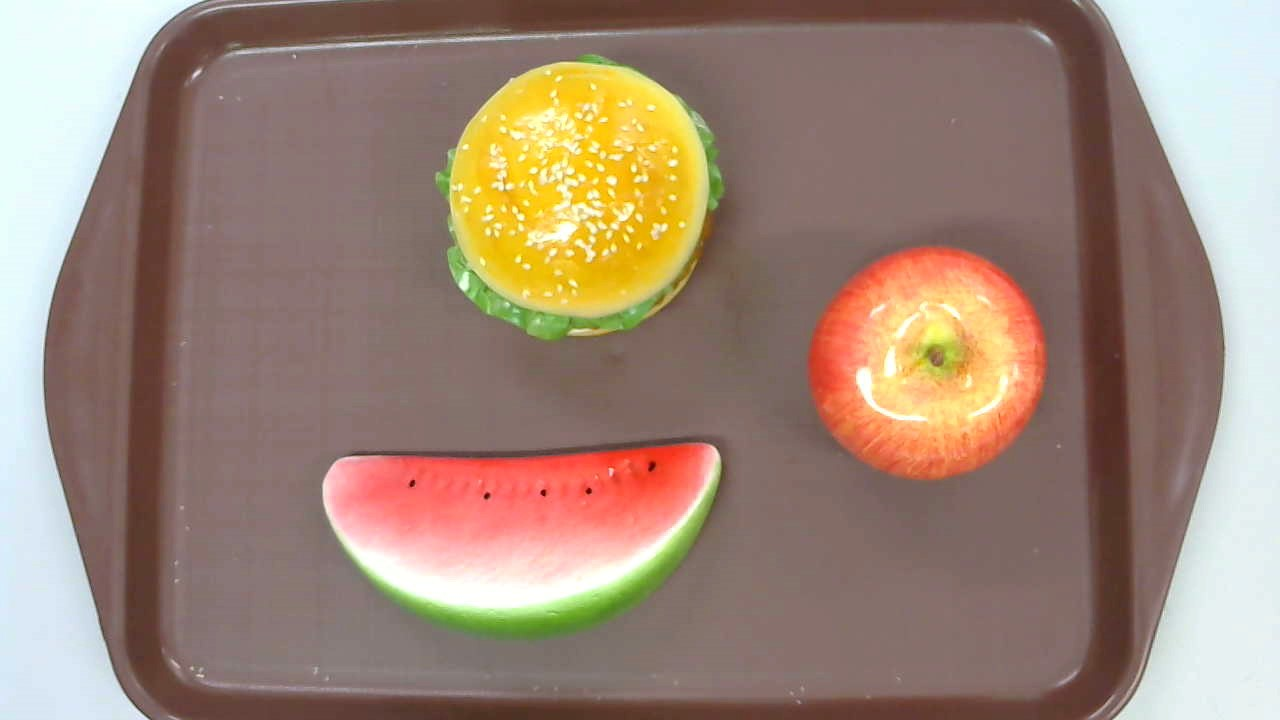hamburger: (433, 53, 727, 339)
red apple: (805, 245, 1047, 482)
water melon: (322, 441, 722, 640)
